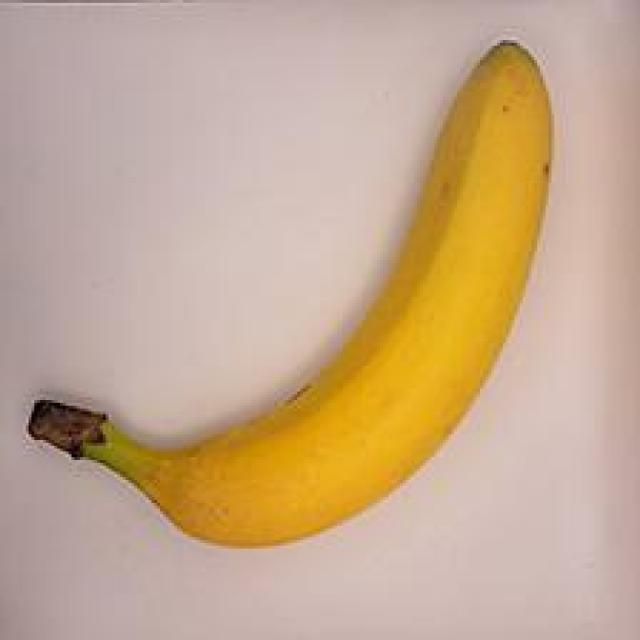Ripe: (11, 26, 588, 576)
